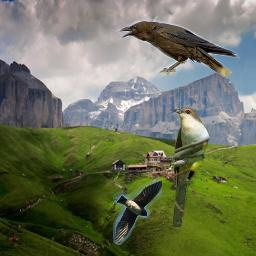Crow: (117, 18, 240, 77)
Cuckoo: (170, 107, 210, 227)
Swallow: (113, 179, 162, 245)
